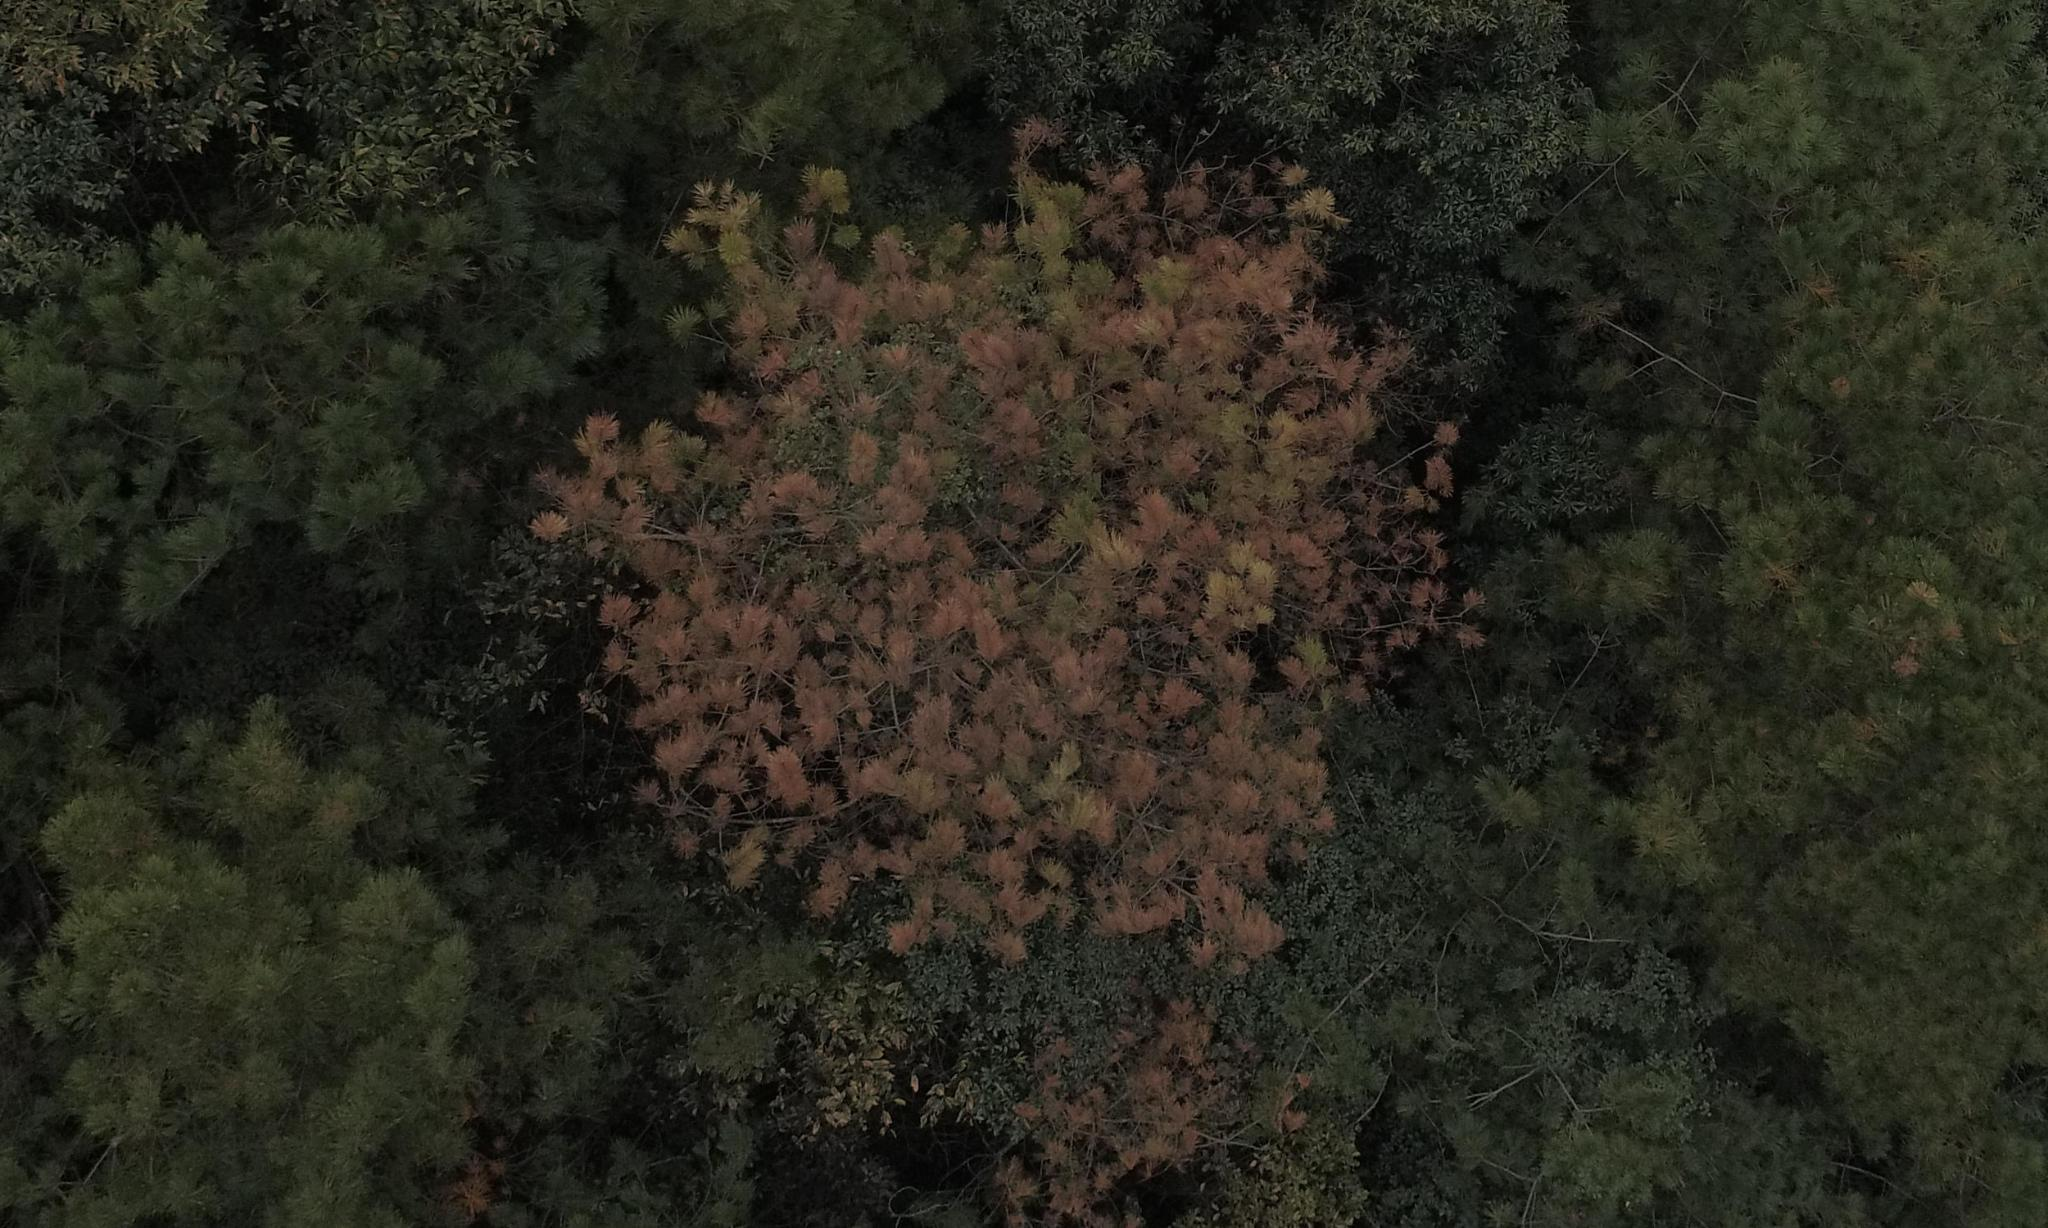heavy: (522, 142, 1472, 965), (982, 994, 1304, 1208)
